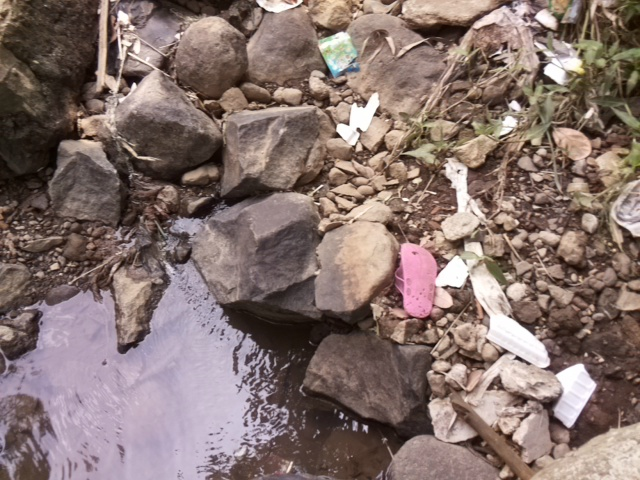Sampah_Plastik: (393, 242, 437, 318), (316, 32, 363, 76)
Sampah_Styrofoam: (487, 309, 552, 368), (552, 361, 599, 423), (338, 93, 379, 147)
